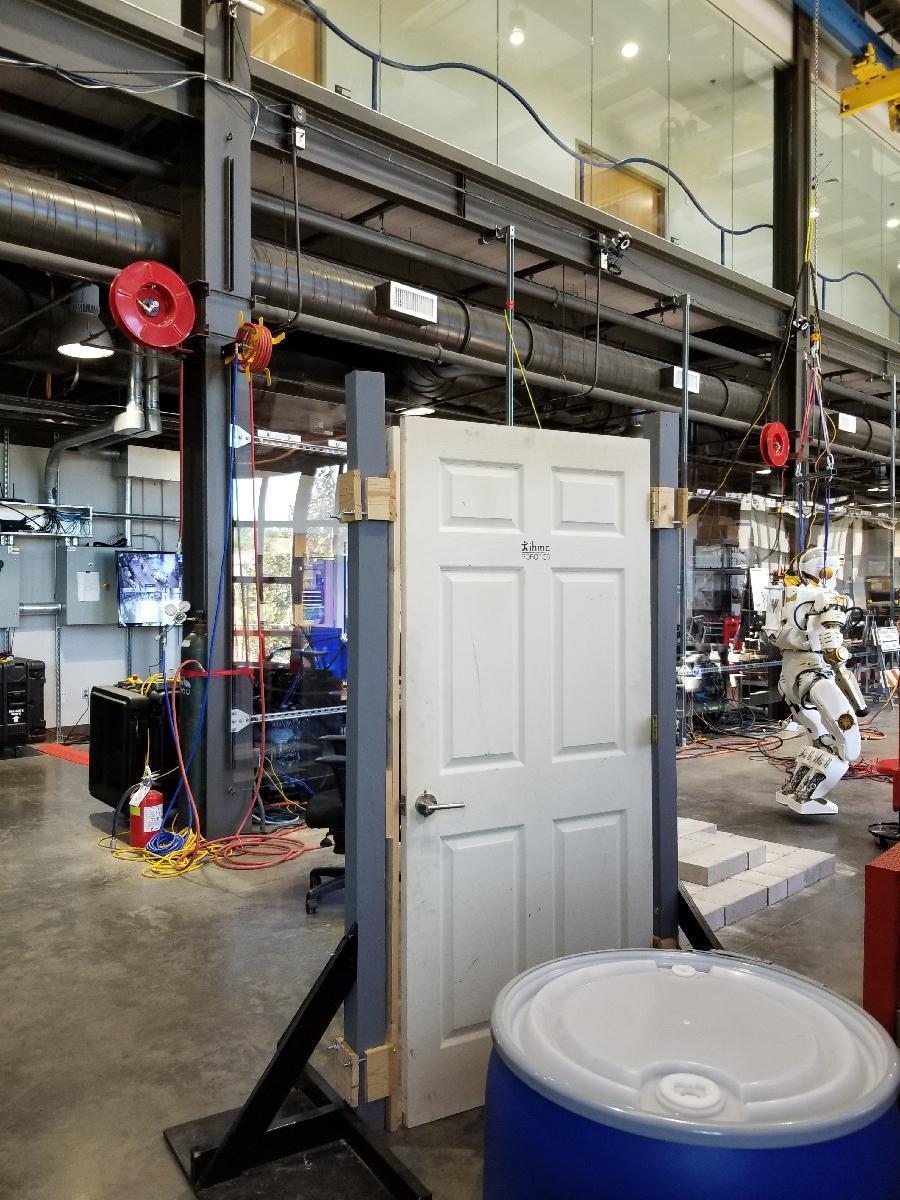door: (406, 413, 659, 1123)
handle: (413, 789, 469, 821)
